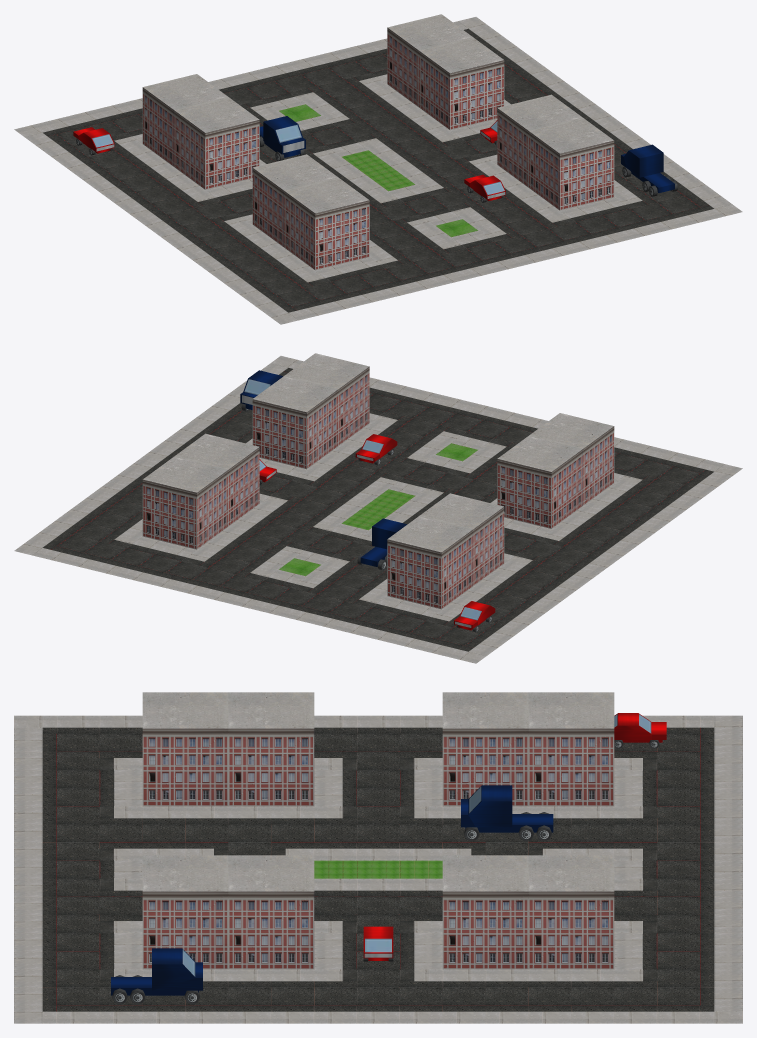
The model's file is planet_small_01.fbx.
The picture shows the model from 3 angles, top to bottom: view 1: azimuth 30°, elevation 25°; view 2: azimuth 150°, elevation 25°; view 3: azimuth 270°, elevation 25°; orthographic projection. The views are drawn at different scales.
Visible parts, largest first — view 1: planet_small_01; view 2: planet_small_01; view 3: planet_small_01.
Part boxes in pixels (bbox=[...]): planet_small_01: bbox=[14, 14, 742, 324]; planet_small_01: bbox=[14, 353, 742, 663]; planet_small_01: bbox=[14, 692, 742, 1023].
Size of the model in its own units: 5100 by 601 by 5100.
